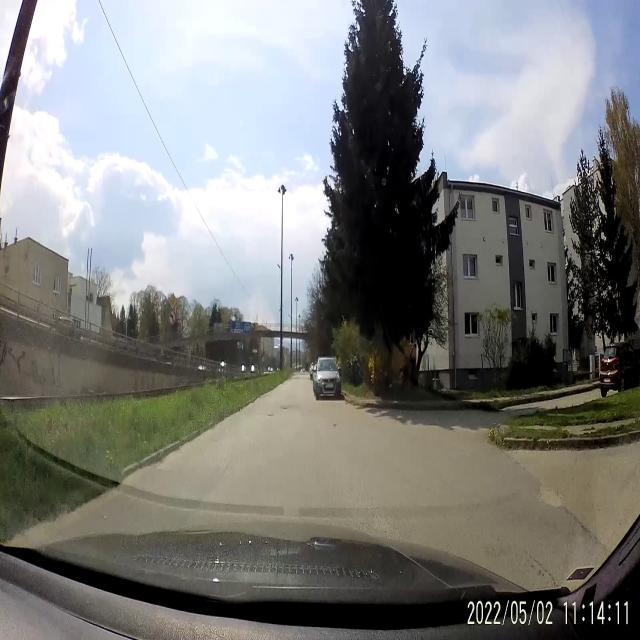Pothole: (280, 404, 290, 412), (266, 412, 275, 418)
